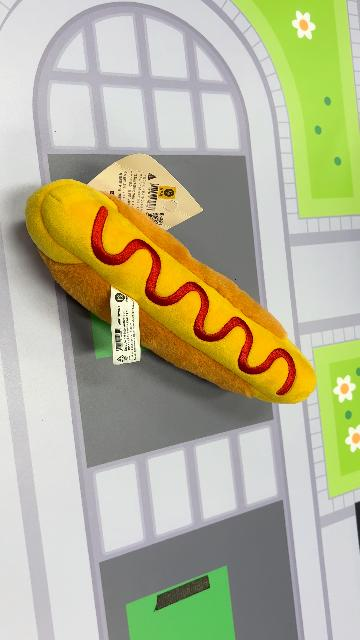hotdog: (24, 178, 318, 406)
